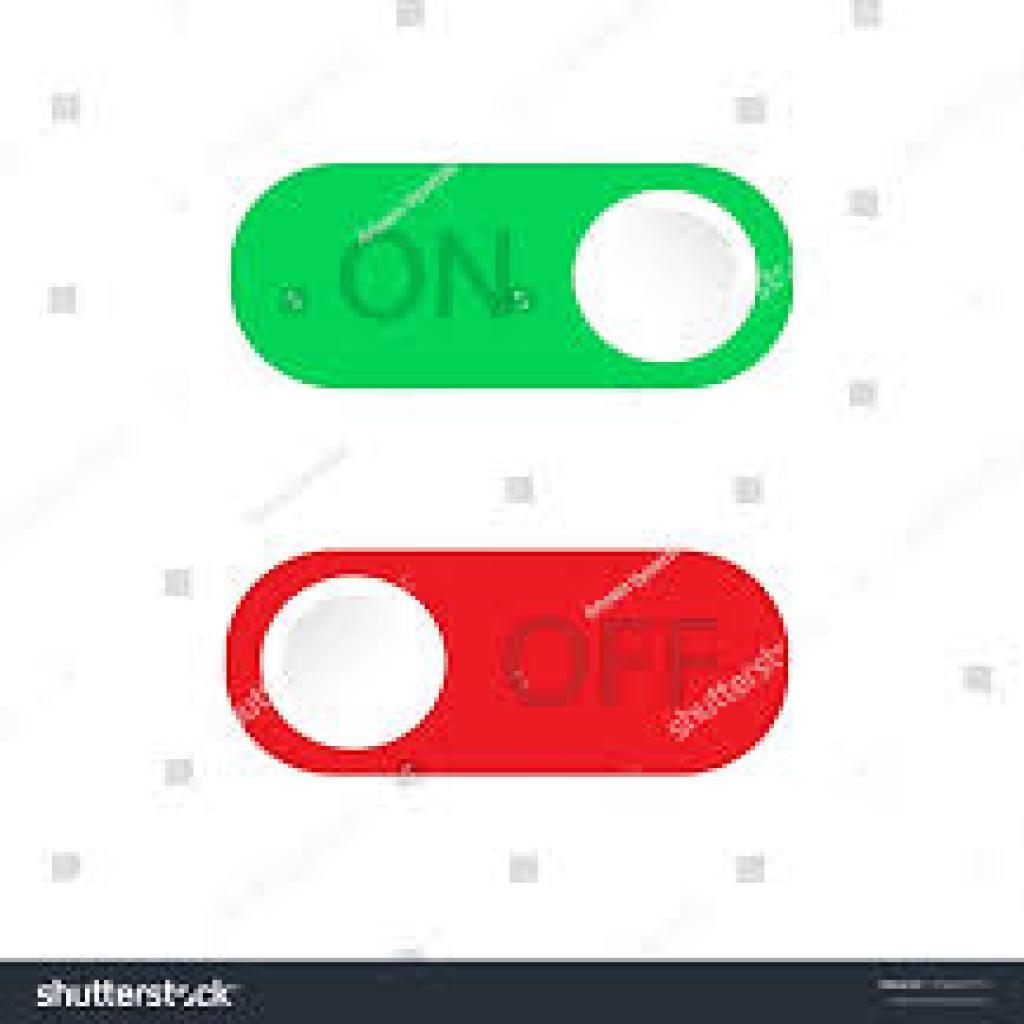switch: (224, 546, 789, 778), (229, 167, 797, 393)
